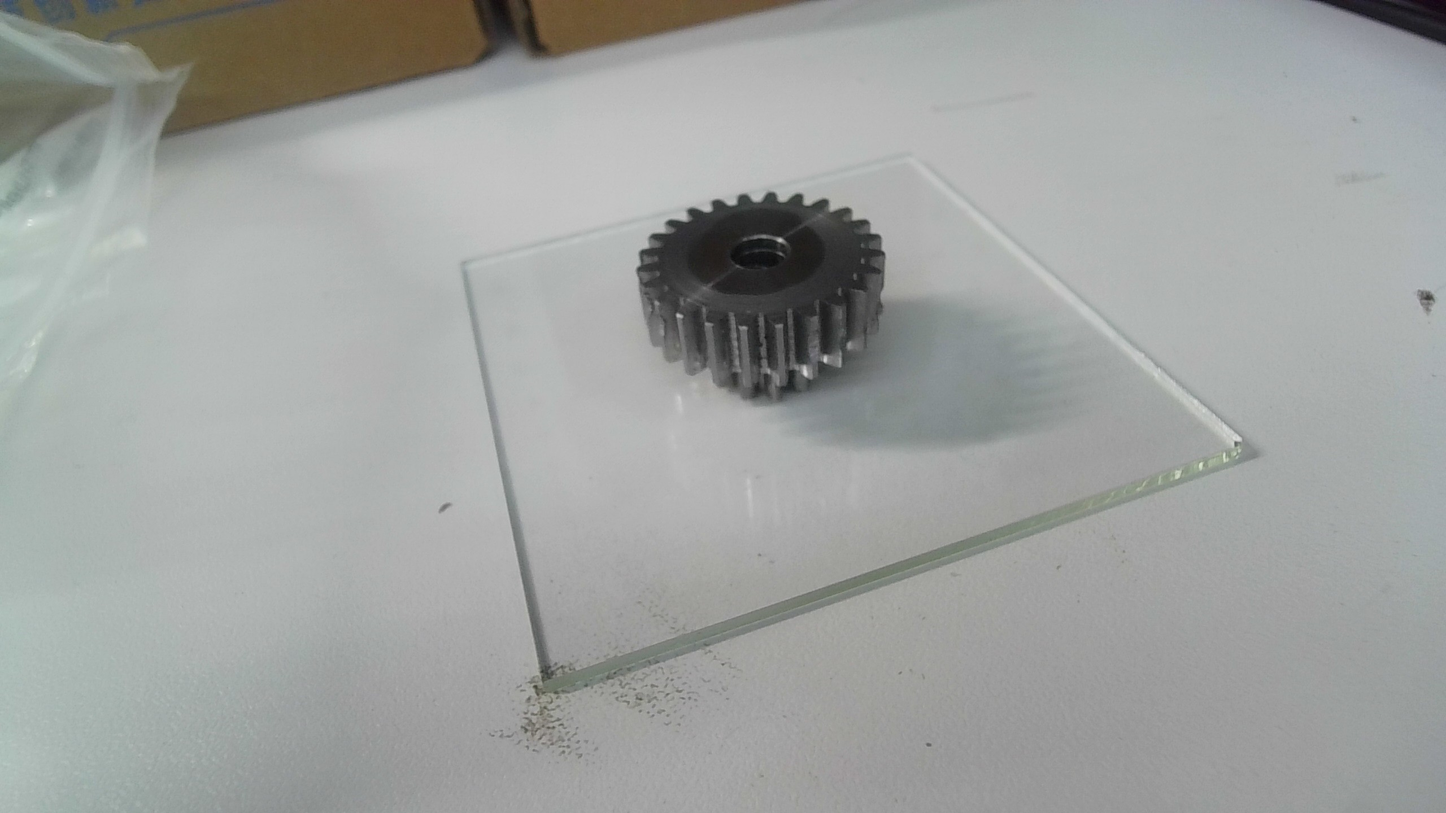gear: (635, 189, 889, 405)
